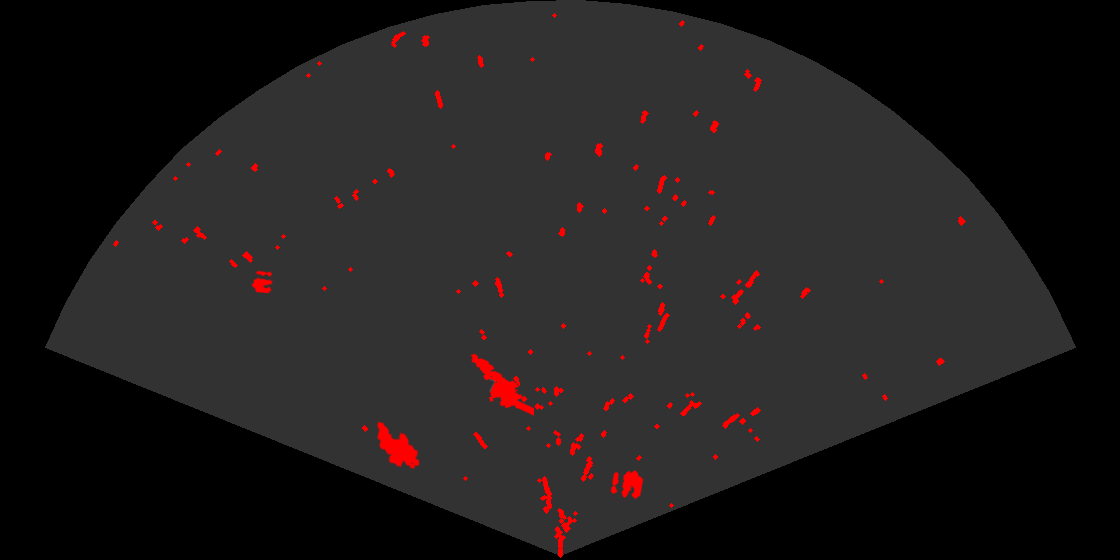AUV: (375, 420, 421, 471)
ball: (609, 469, 645, 501), (250, 269, 274, 295)
frogman: (469, 352, 534, 417)
